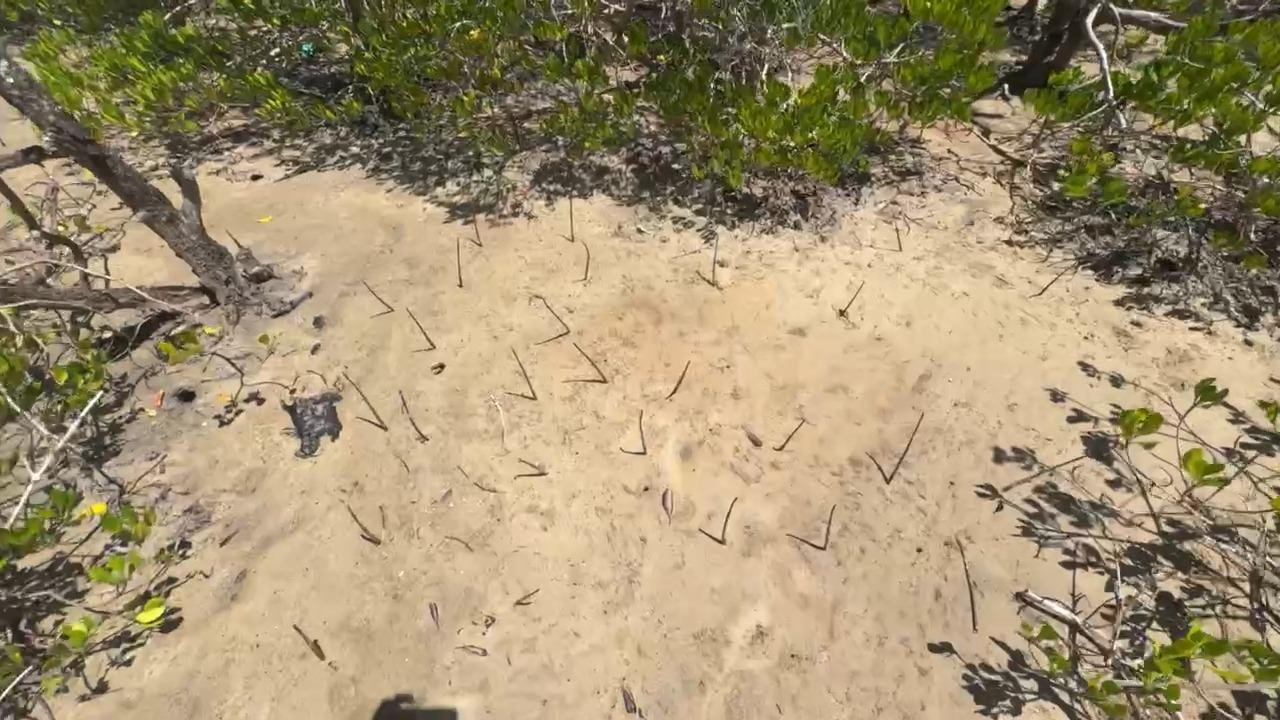Tree: (341, 372, 387, 431), (888, 412, 923, 485), (337, 498, 380, 545), (510, 345, 538, 400), (572, 342, 609, 383), (533, 294, 569, 333), (291, 624, 326, 662), (406, 307, 436, 348), (664, 360, 691, 400), (839, 280, 865, 317), (362, 281, 394, 311), (1039, 267, 1069, 296), (721, 497, 738, 545), (781, 419, 805, 449), (823, 504, 837, 550), (409, 416, 430, 442), (517, 458, 546, 476), (711, 231, 719, 284), (580, 240, 590, 280), (639, 409, 647, 455), (225, 229, 242, 249), (473, 213, 483, 247), (457, 236, 463, 288), (568, 191, 574, 243), (398, 389, 409, 414), (894, 222, 903, 252), (0, 137, 6, 147)
